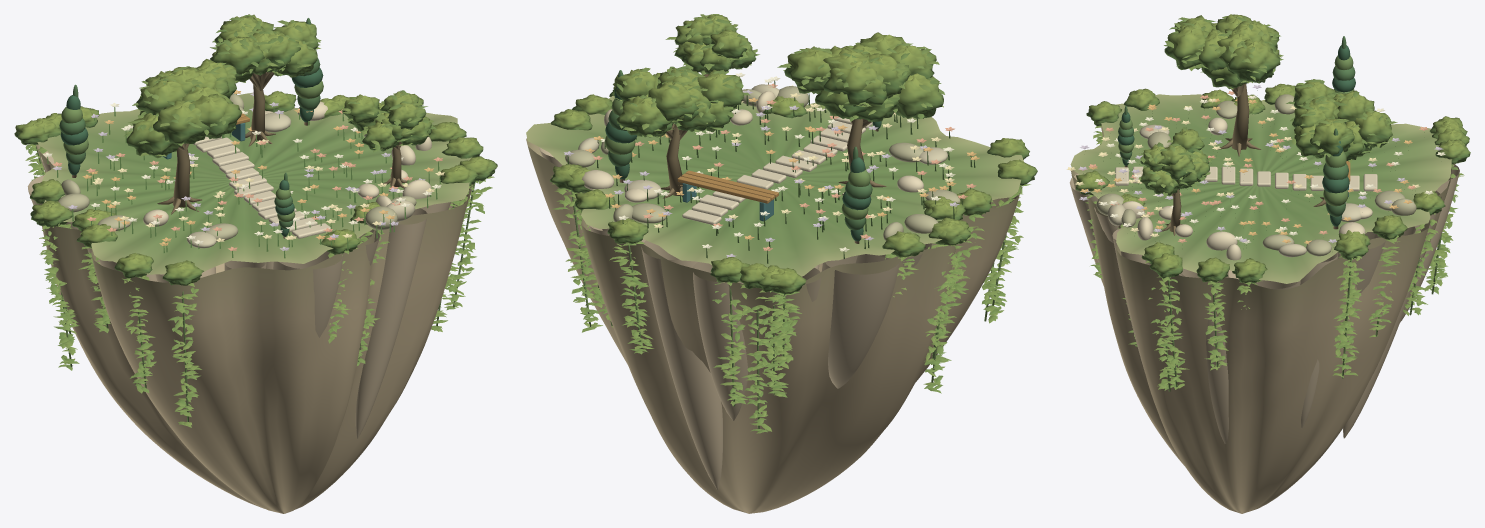
File: orchard.glb
The picture shows the model from 3 angles, left to right: view 1: azimuth 30°, elevation 25°; view 2: azimuth 150°, elevation 25°; view 3: azimuth 270°, elevation 25°; orthographic projection. The views are drawn at different scales.
Visible parts, largest first — view 1: orchard_fixed_Warm limestone, orchard_fixed_Garden foliage, orchard_fixed_Flower petals, orchard_fixed_Oiled cedar; view 2: orchard_fixed_Garden foliage, orchard_fixed_Warm limestone, orchard_fixed_Flower petals, orchard_fixed_Oiled cedar; view 3: orchard_fixed_Garden foliage, orchard_fixed_Warm limestone, orchard_fixed_Flower petals, orchard_fixed_Oiled cedar.
Boxes of the visible parts, x1,y1,x2,y2 form: orchard_fixed_Warm limestone: (27,93,473,513); orchard_fixed_Garden foliage: (14,14,497,427); orchard_fixed_Flower petals: (43,90,444,258); orchard_fixed_Oiled cedar: (72,71,409,238); orchard_fixed_Garden foliage: (526,14,1037,433); orchard_fixed_Warm limestone: (526,84,1021,513); orchard_fixed_Flower petals: (564,72,979,263); orchard_fixed_Oiled cedar: (619,74,886,243); orchard_fixed_Garden foliage: (1070,14,1470,391); orchard_fixed_Warm limestone: (1069,94,1459,513); orchard_fixed_Flower petals: (1066,85,1445,247); orchard_fixed_Oiled cedar: (1124,84,1350,235).
Size of the model in its own units: 11.43 by 12.09 by 10.02.
